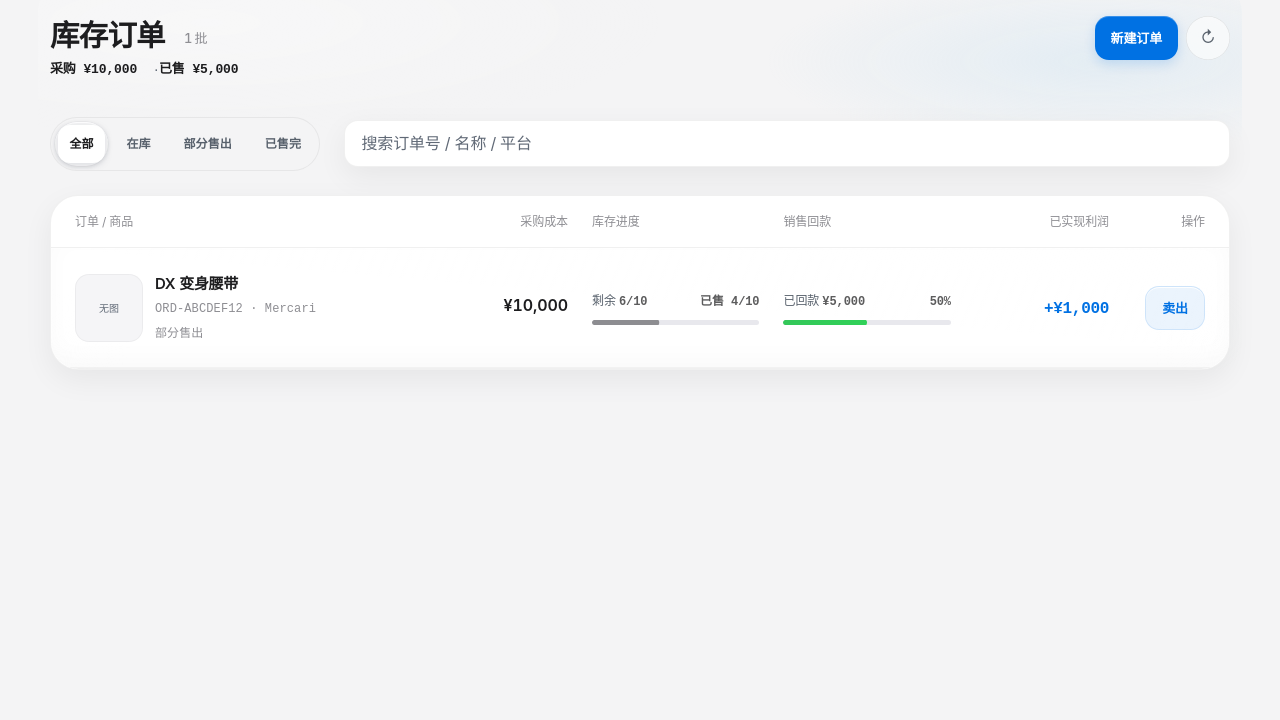
Test: InventoryOrdersWorkspace › opens adjust sheet with product name — not note
Click the button "无图 DX 变身腰带 ORD-ABCDEF12 · Mercari 部分售出". click: point(242, 308)
box: [75, 272, 410, 344]
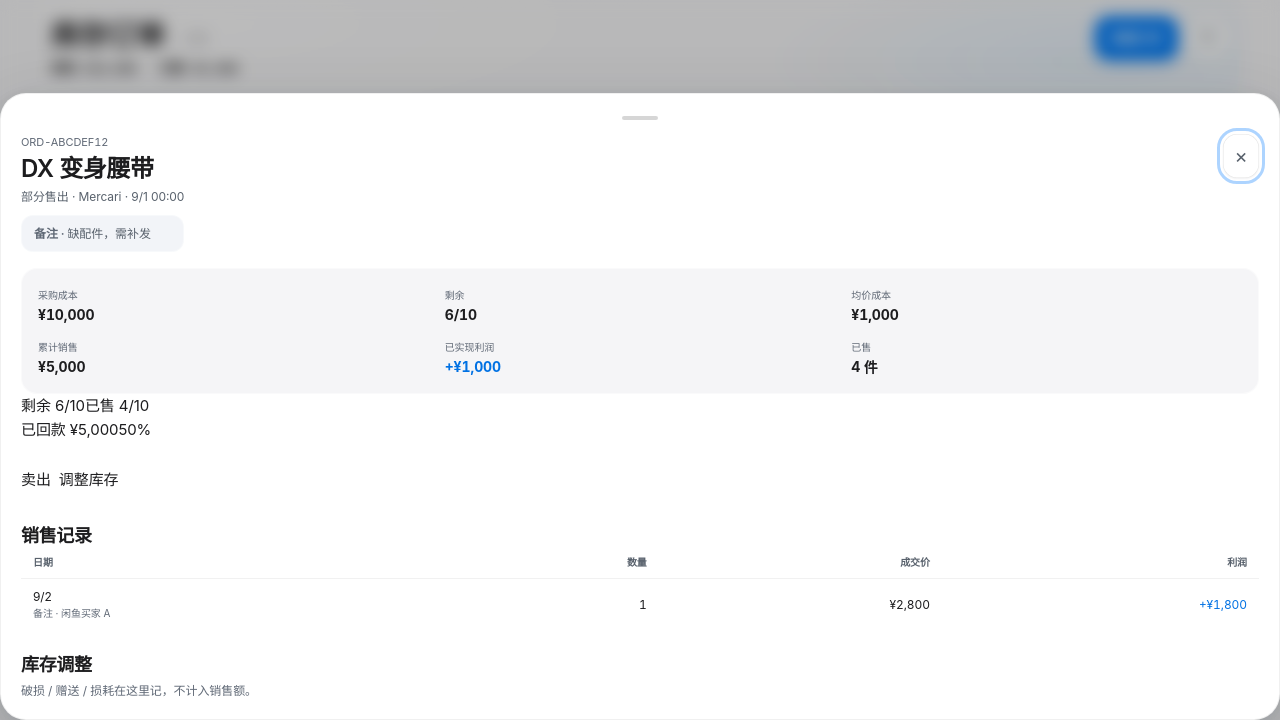
Result: the heading with test id "inventory-order-detail-name" reads "DX 变身腰带" at [21, 154, 154, 183]
Result: the text with test id "inventory-order-sale-note" shows "闲鱼买家 A" at [61, 607, 110, 619]
Result: the button "调整库存" is shown
Click the button "调整库存". click: point(89, 480)
box: [59, 458, 118, 502]
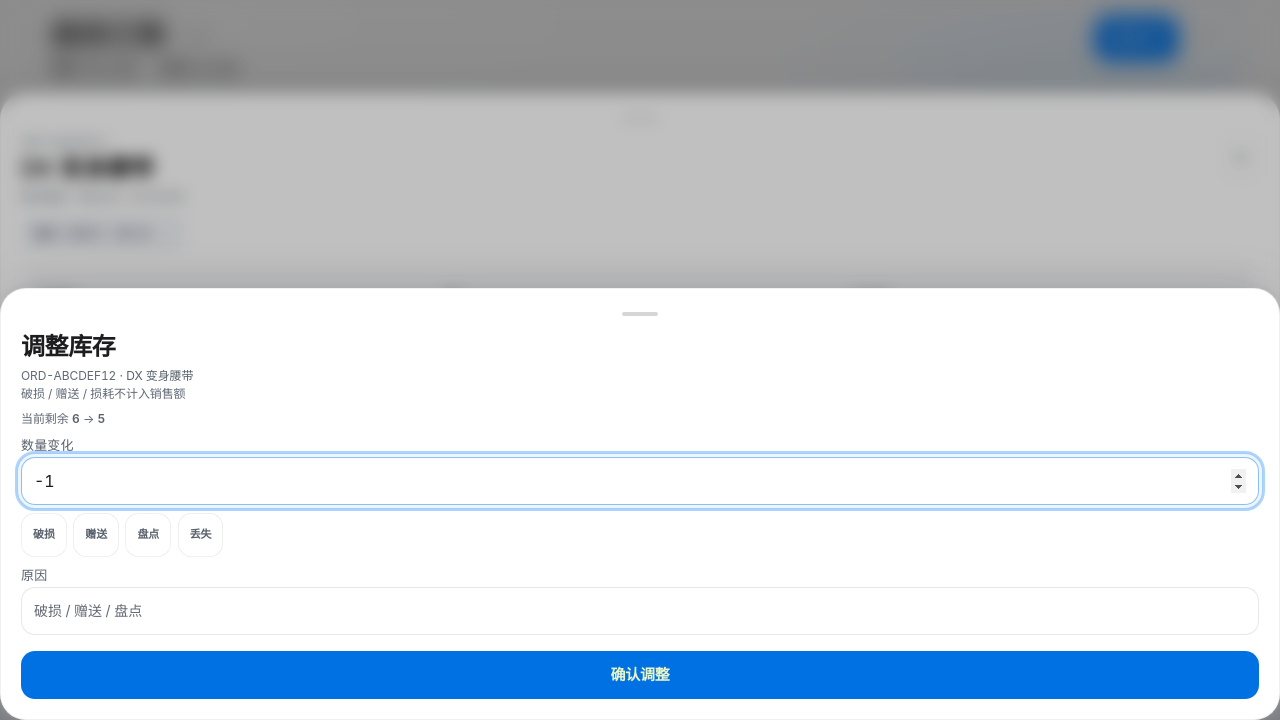
Result: the element with id "shell-overlay-root" shows "调整库存" at [59, 458, 118, 502]
Result: the element with id "shell-overlay-root" shows "破损" at [21, 513, 67, 557]
Result: the text with test id "inventory-order-adjust-name" reads "DX 变身腰带" at [126, 368, 193, 382]
